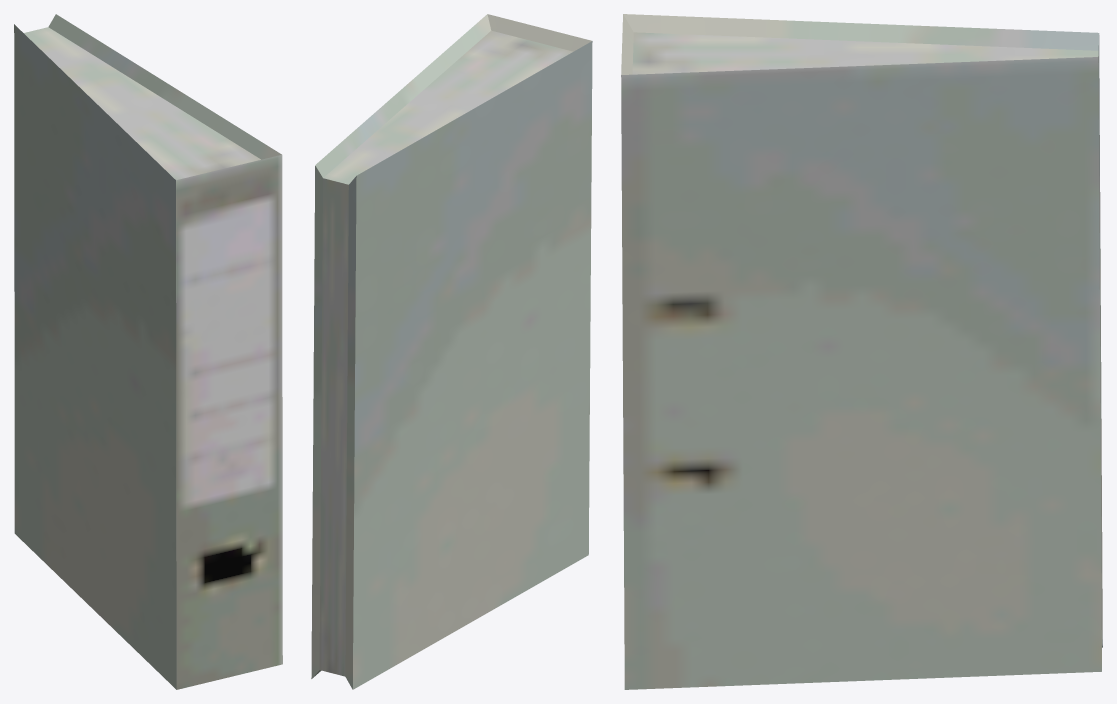
File: file_binder.obj
The picture shows the model from 3 angles, left to right: view 1: azimuth 30°, elevation 25°; view 2: azimuth 150°, elevation 25°; view 3: azimuth 270°, elevation 25°; orthographic projection. The views are drawn at different scales.
Visible parts, largest first — view 1: file_binder; view 2: file_binder; view 3: file_binder.
Boxes of the visible parts, <box> form: file_binder: <box>14,14,282,689</box>; file_binder: <box>311,14,592,689</box>; file_binder: <box>621,14,1102,689</box>.
Size of the model in its own units: 0.093 by 0.4243 by 0.3006.
